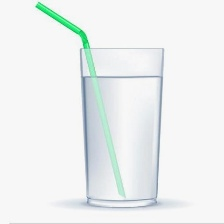drinking_straw: (32, 0, 130, 200)
glass: (74, 41, 172, 213)
